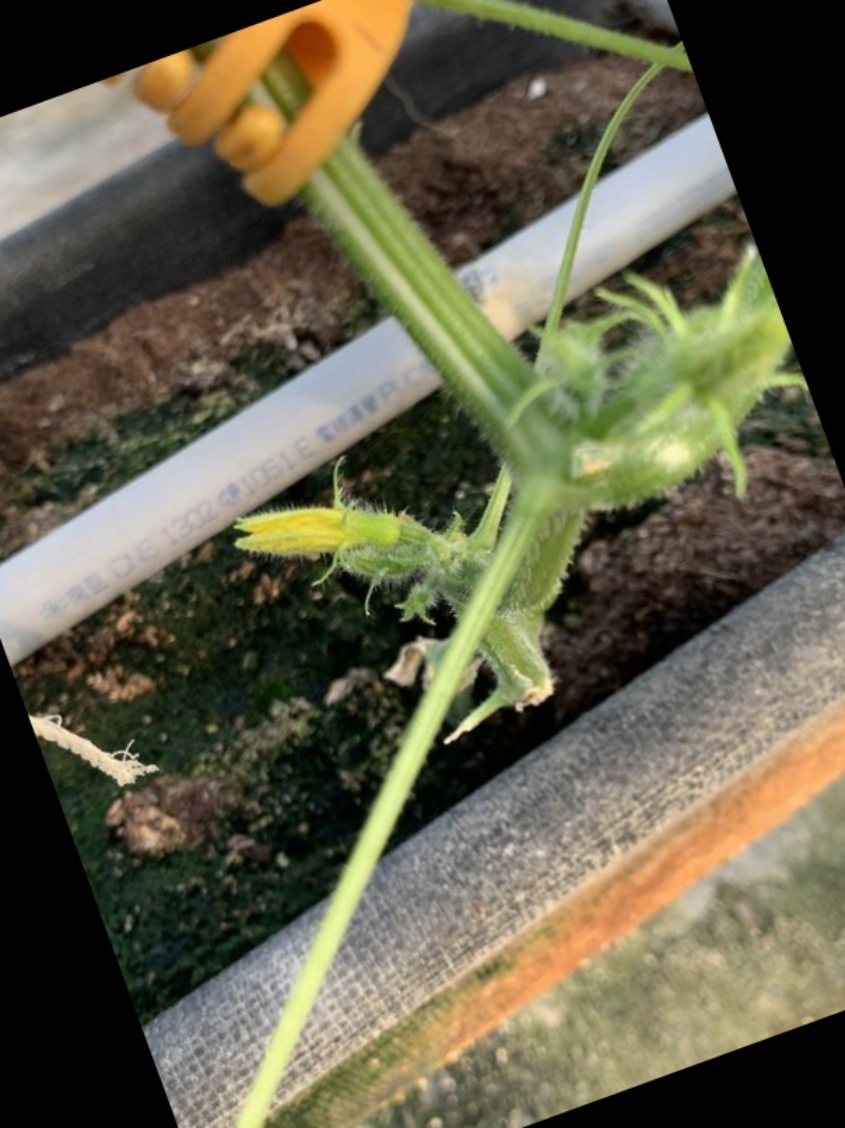bud: (235, 503, 431, 585)
